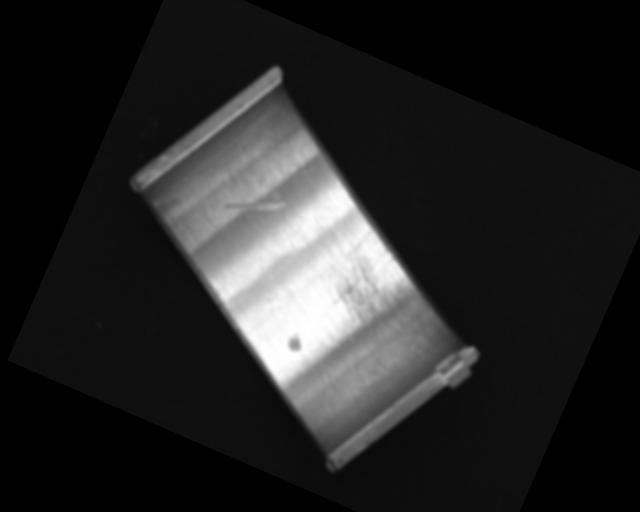bruise: (284, 331, 306, 355)
nick: (223, 175, 289, 230), (270, 158, 317, 232)
scratch: (310, 216, 452, 348)
